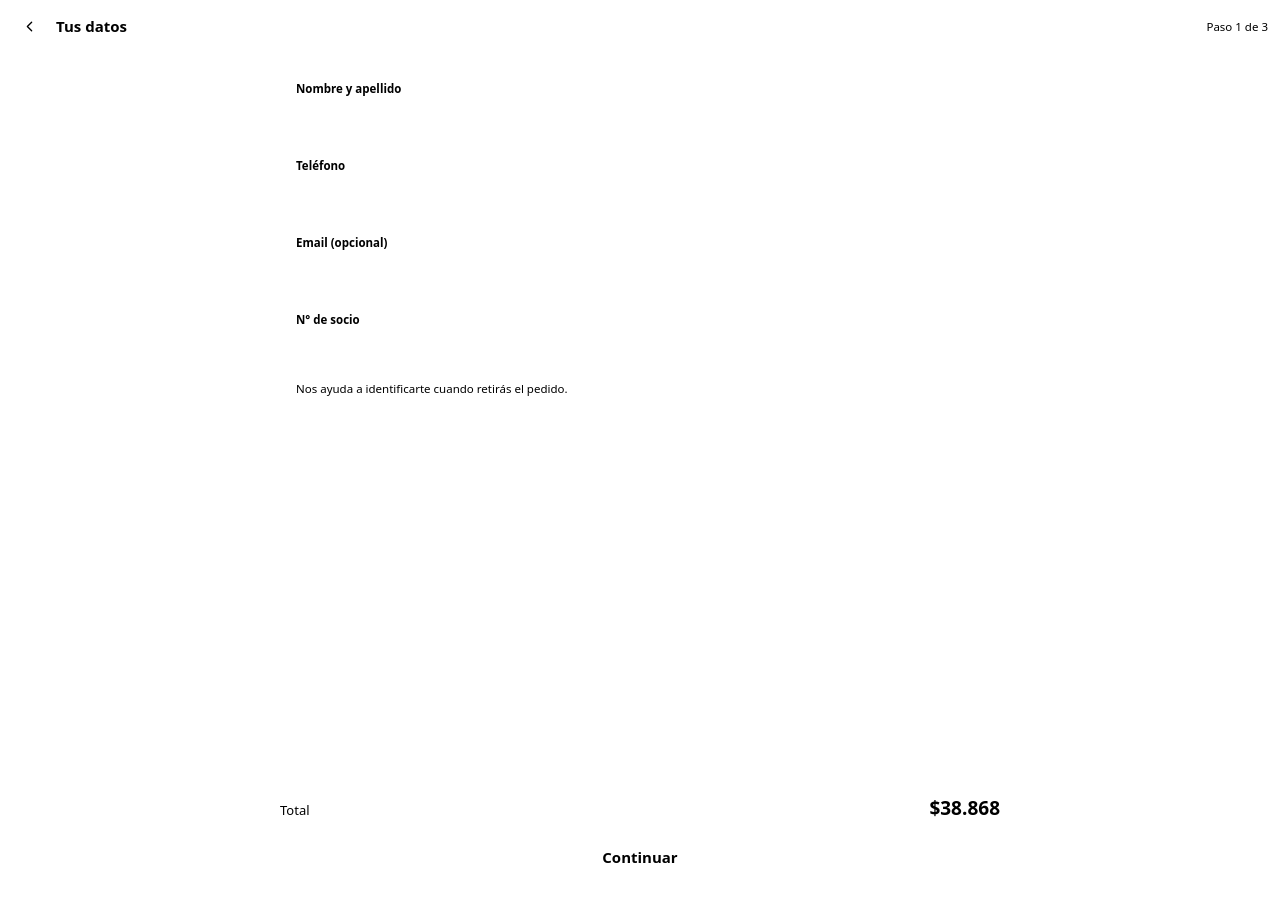
checkout · paso 1, los datos › no avanza sin nombre, y lo dice
Click the button "Continuar". click: (640,857)
box: [280,832,1000,882]
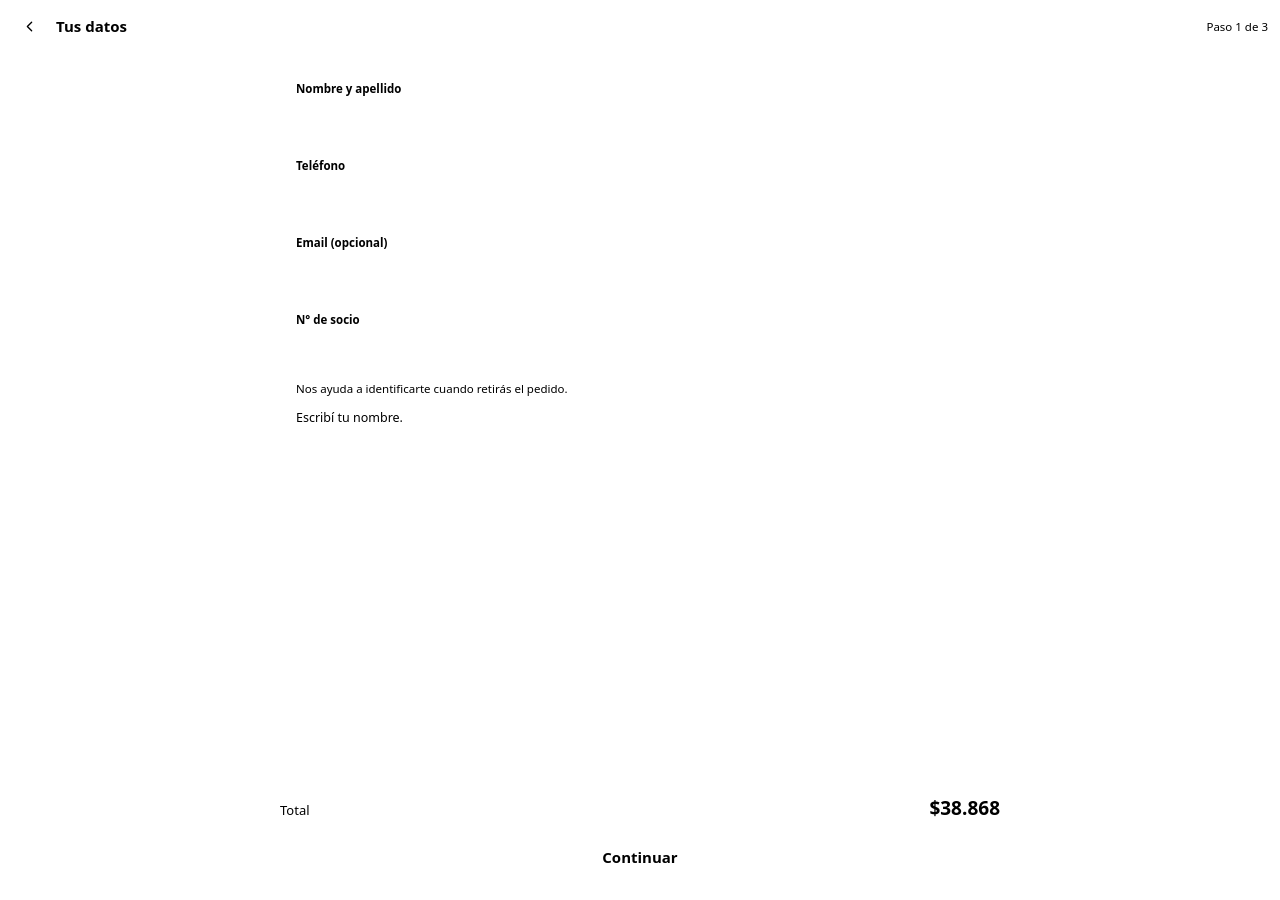
Result: the message "Escribí tu nombre." is shown at [296,409,403,426]
